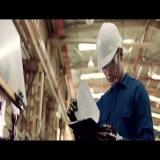Helmet: (96, 22, 123, 70)
